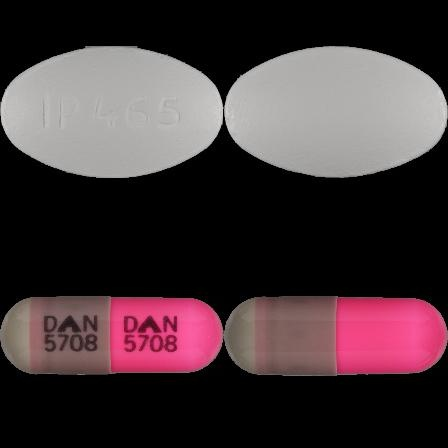49999-006: (0, 0, 224, 224)
